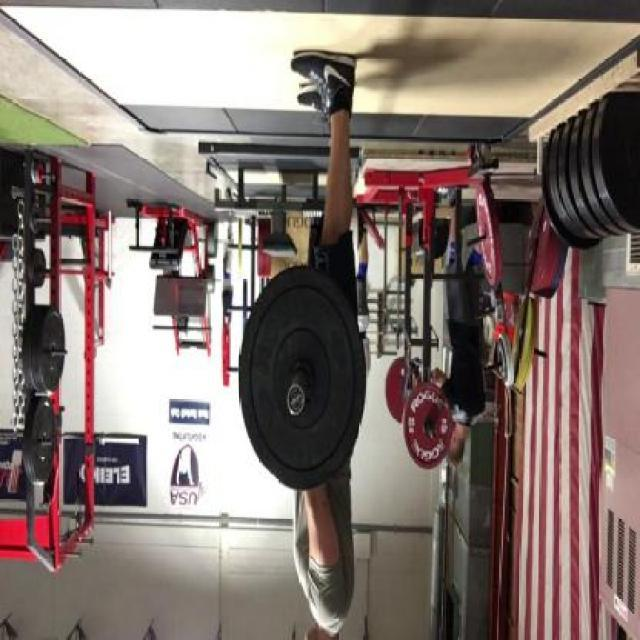Barbell: (284, 380, 306, 420)
